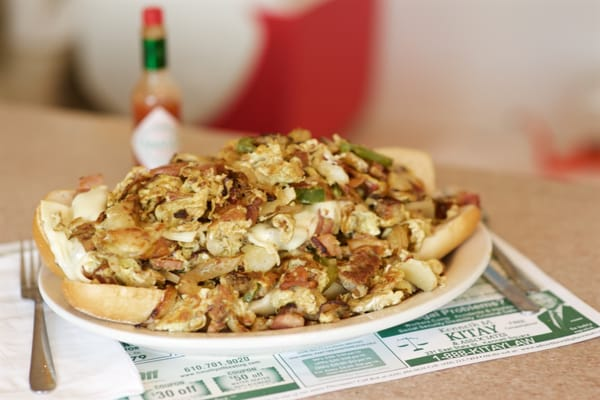curry: (1, 95, 574, 398)
sandwich: (31, 127, 487, 333)
